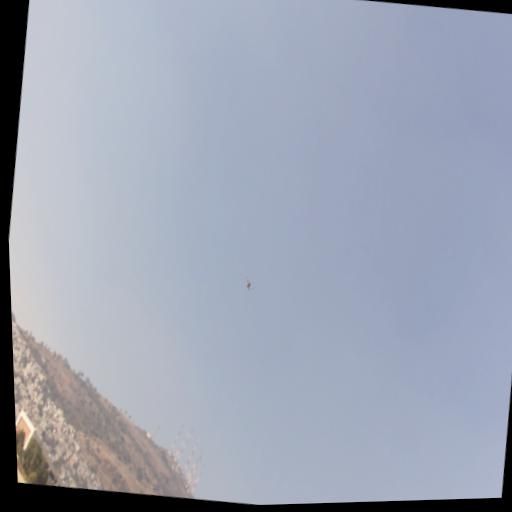drones: (241, 274, 256, 296)
